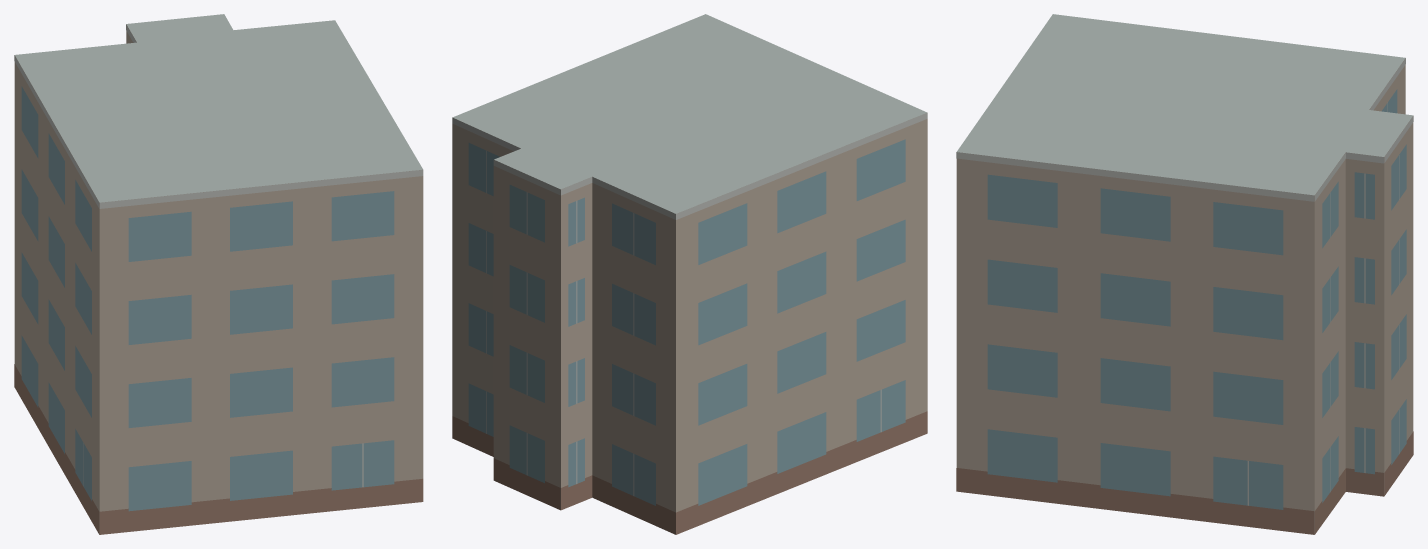
The model's file is survey-upis-32809459.glb.
3 renders of one model, left to right at view 1: azimuth 30°, elevation 25°; view 2: azimuth 150°, elevation 25°; view 3: azimuth 270°, elevation 25°, orthographic. The views are drawn at different scales.
Visible parts, largest first — view 1: survey-upis-32809459.tmp; view 2: survey-upis-32809459.tmp; view 3: survey-upis-32809459.tmp.
Boxes of the visible parts, x1,y1,x2,y2 form: survey-upis-32809459.tmp: (14, 14, 423, 534); survey-upis-32809459.tmp: (452, 14, 927, 534); survey-upis-32809459.tmp: (956, 14, 1413, 534).
Bounding box in the file's own units: 14.68 × 12.8 × 15.63.
